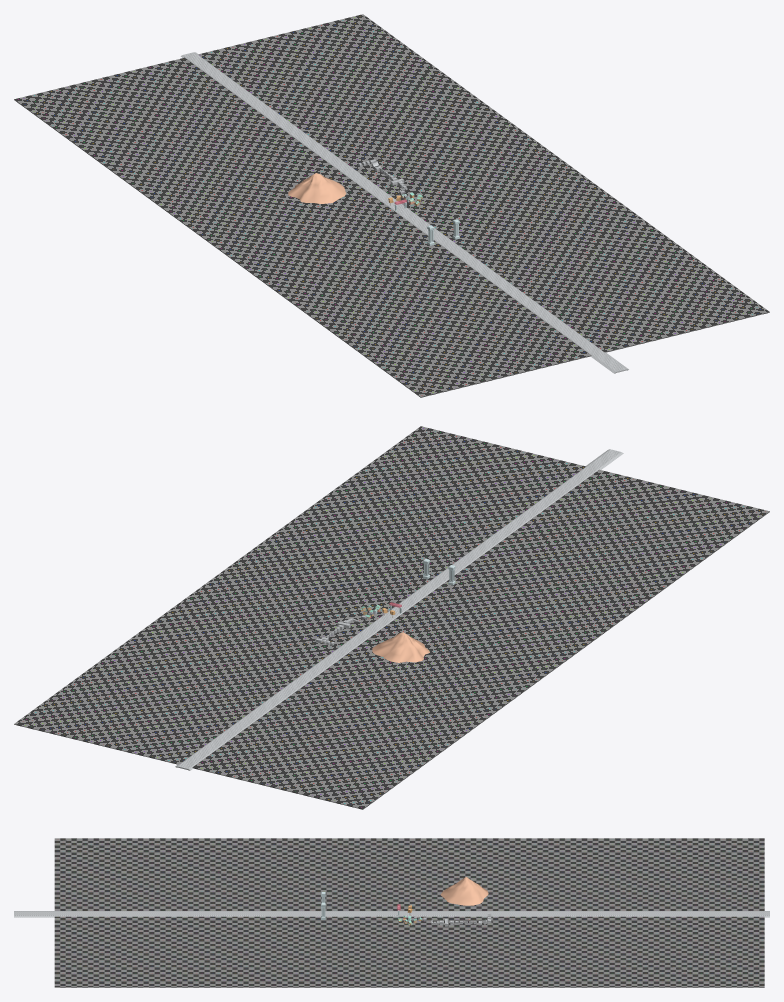
The model's file is FlatMap.glb.
3 views of the same model, one above another, from view 1: azimuth 30°, elevation 25°; view 2: azimuth 150°, elevation 25°; view 3: azimuth 270°, elevation 25° (orthographic). The views are drawn at different scales.
Visible parts, largest first — view 1: Cube, Plane, Vert.003; view 2: Cube, Plane, Vert.003; view 3: Cube, Plane, Vert.003.
Boxes of the visible parts, box(x1,y1,x2,y2) form: Cube: box(14, 14, 769, 397); Plane: box(180, 52, 628, 373); Vert.003: box(288, 173, 346, 203); Cube: box(14, 426, 769, 809); Plane: box(175, 449, 623, 770); Vert.003: box(372, 632, 429, 662); Cube: box(54, 838, 764, 987); Plane: box(14, 911, 769, 917); Vert.003: box(440, 877, 488, 905).
Size of the model in its own units: 2861 by 165 by 6151.
Materials: 45 (2 with a texture image).
